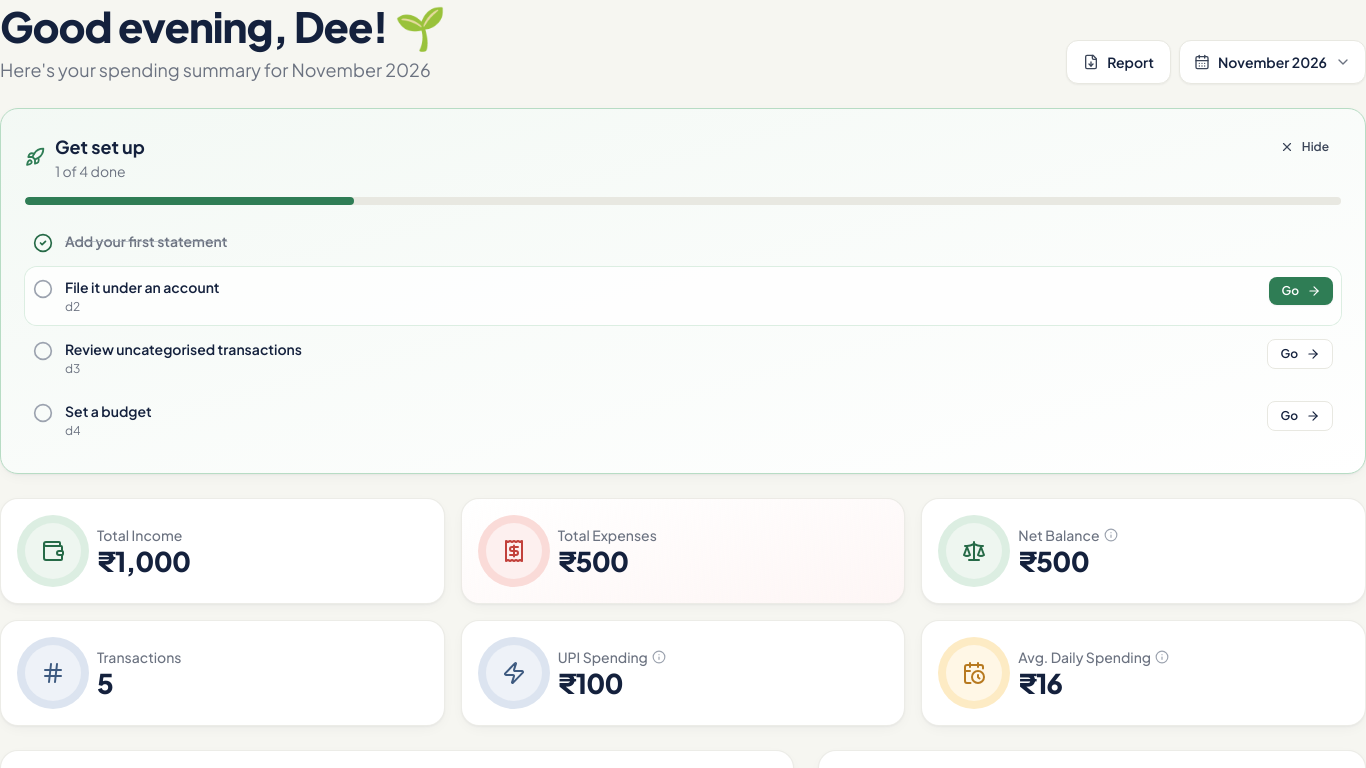
Test: Dashboard onboarding › hides the checklist for good when asked
The width and height of the screenshot is (1366, 768).
Click the button with aria-label "Hide the getting started checklist".
click(1304, 147)  # box top-left (1268, 133), bottom-right (1341, 161)
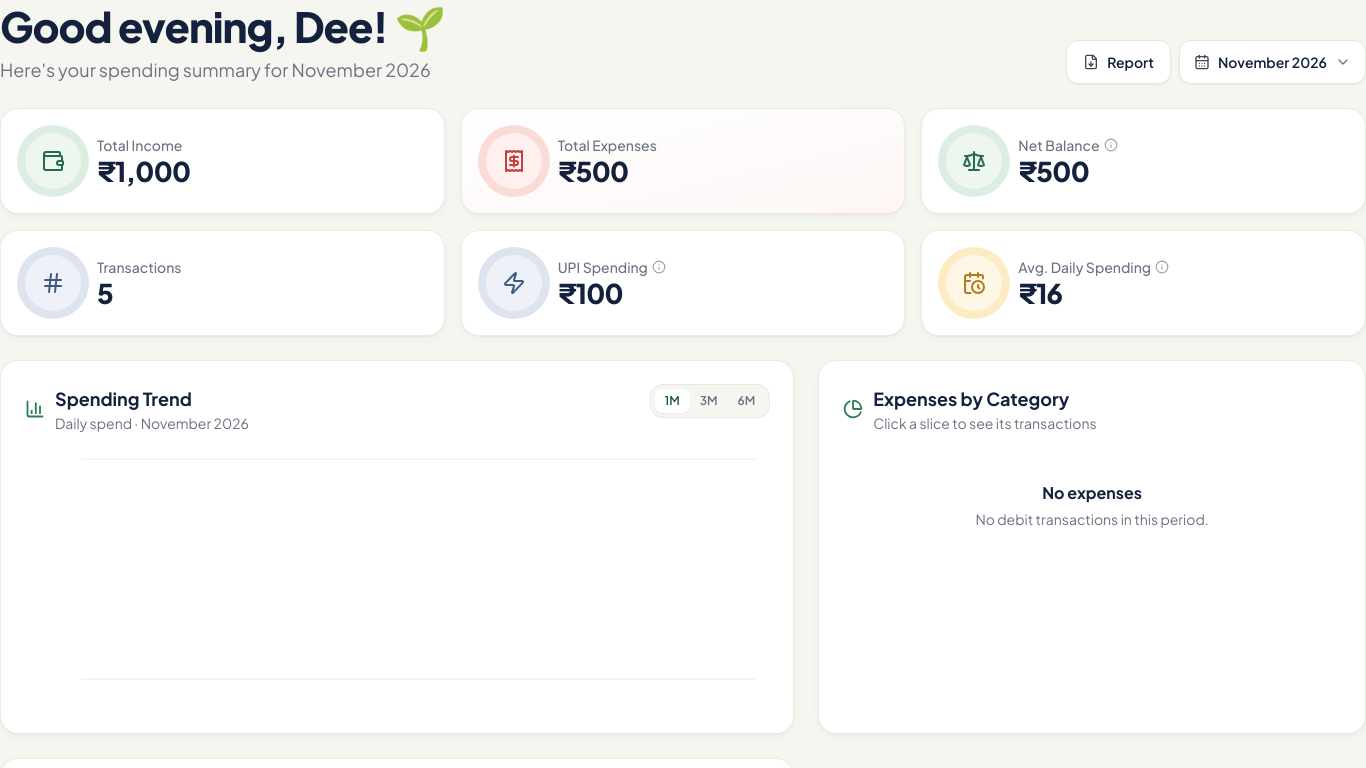
Check: the heading "Get set up" is gone
